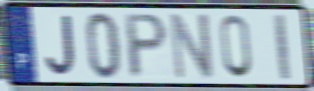0: (84, 10, 122, 81), (219, 13, 254, 81)
I: (272, 12, 293, 83)
J: (44, 13, 78, 78)
N: (168, 11, 216, 82)
P: (124, 11, 170, 81)
